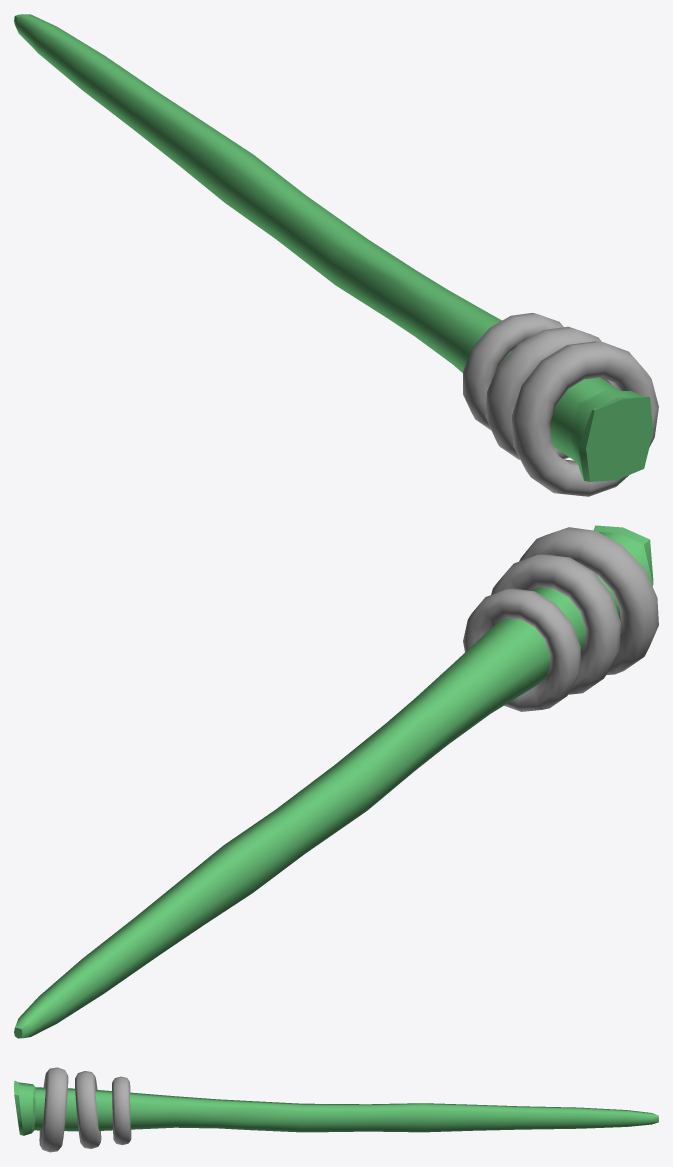
File: player_necklace01_v01_low.fbx
The picture shows the model from 3 angles, top to bottom: view 1: azimuth 30°, elevation 25°; view 2: azimuth 150°, elevation 25°; view 3: azimuth 270°, elevation 25°; orthographic projection. The views are drawn at different scales.
Parts seen in each view (by area): view 1: playerfinal1:tail, nacklace01, nacklace02, nacklace03; view 2: playerfinal1:tail, nacklace01, nacklace02, nacklace03; view 3: playerfinal1:tail, nacklace01, nacklace02, nacklace03.
Boxes of the visible parts, x1,y1,x2,y2 form: playerfinal1:tail: (14,14,653,481); nacklace01: (511,341,658,496); nacklace02: (485,326,611,459); nacklace03: (463,313,563,430); playerfinal1:tail: (14,525,653,1038); nacklace01: (519,527,658,674); nacklace02: (491,554,620,694); nacklace03: (463,588,580,711); playerfinal1:tail: (14,1080,658,1135); nacklace01: (39,1067,68,1152); nacklace02: (75,1071,101,1148); nacklace03: (112,1076,131,1145).
Bounding box in the file's own units: 0.9299 × 0.9307 × 7.06.
